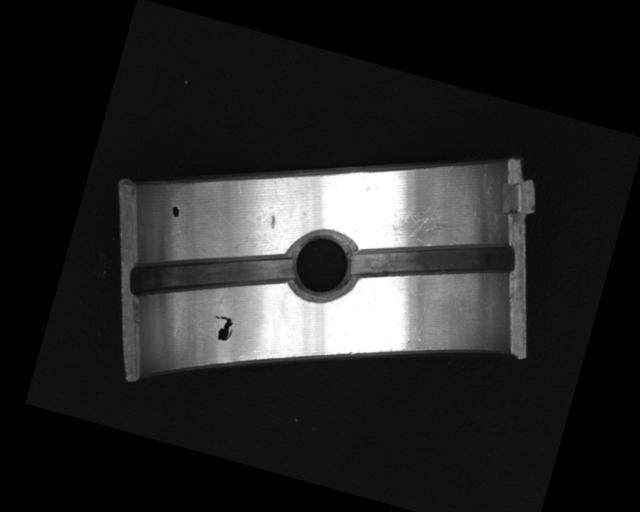blot: (208, 313, 236, 344), (169, 205, 181, 218)
bruise: (267, 214, 278, 230)
gap: (124, 217, 298, 333), (347, 207, 517, 315)
hole: (280, 223, 364, 307)
scratch: (385, 189, 487, 261)
